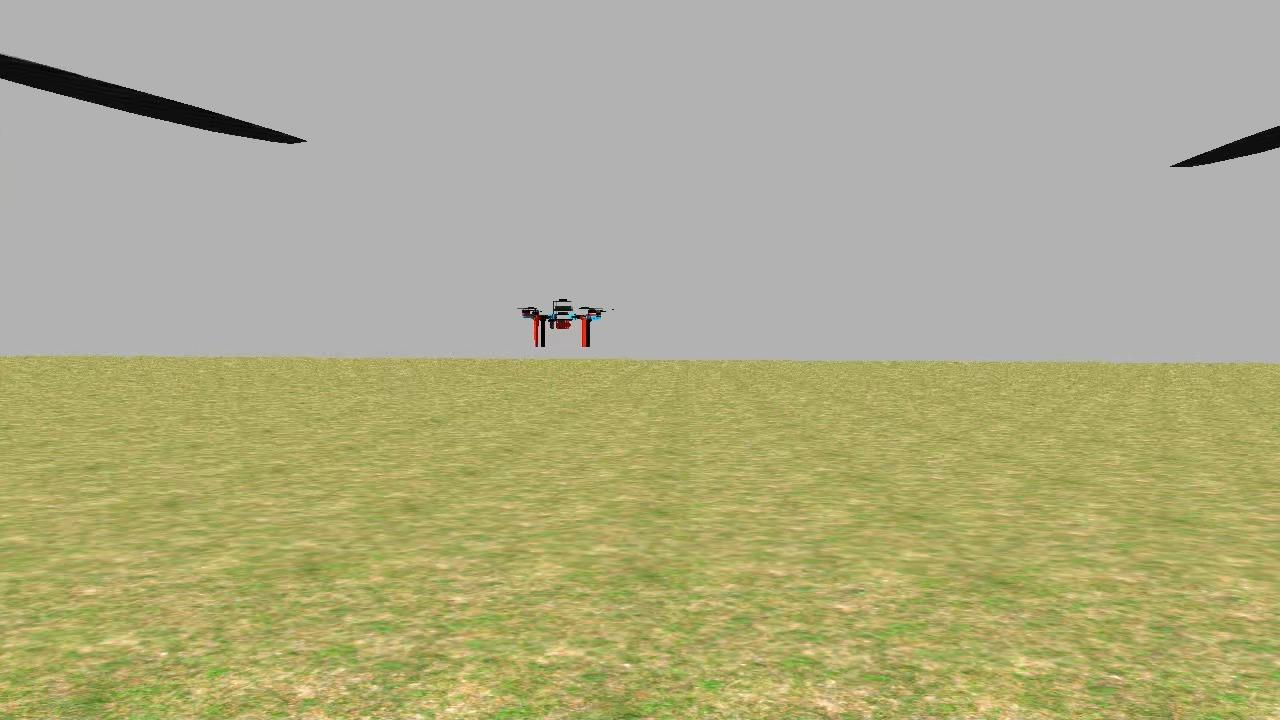UAV: (514, 294, 613, 344)
